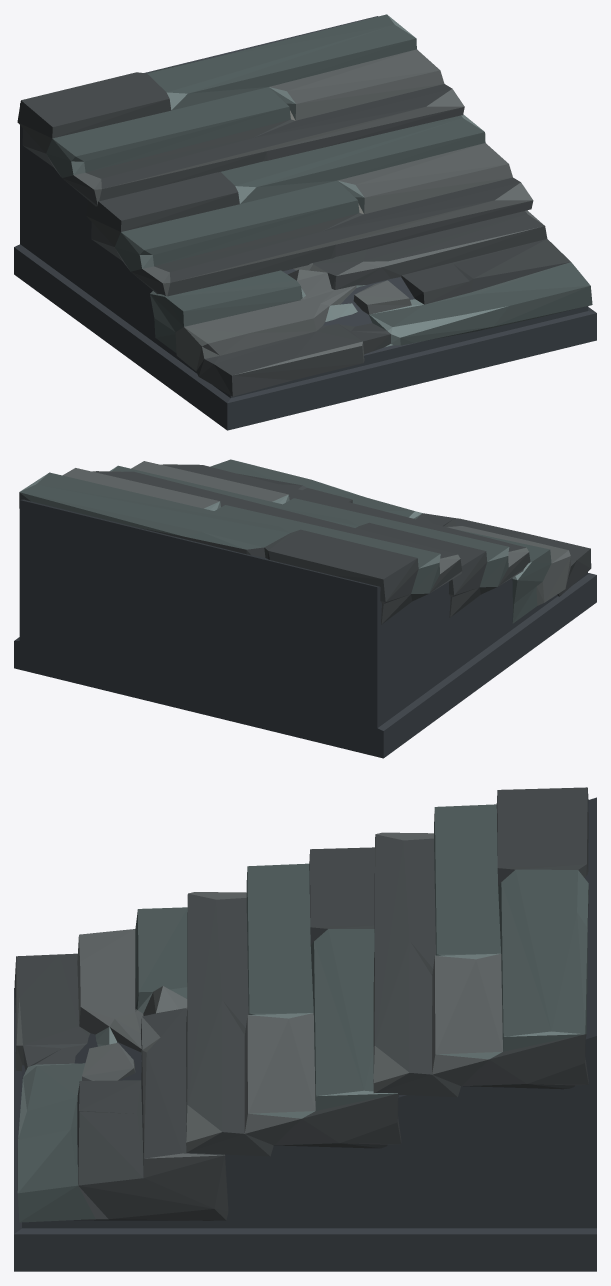
The model's file is MDungeons_StepsSimple_Broken_01.FBX.
The picture shows the model from 3 angles, top to bottom: view 1: azimuth 30°, elevation 25°; view 2: azimuth 150°, elevation 25°; view 3: azimuth 270°, elevation 25°; orthographic projection. The views are drawn at different scales.
Visible parts, largest first — view 1: MDungeons_StepsSimple_Broken_01_LOD0; view 2: MDungeons_StepsSimple_Broken_01_LOD0; view 3: MDungeons_StepsSimple_Broken_01_LOD0.
Part boxes in pixels (x1=…): MDungeons_StepsSimple_Broken_01_LOD0: x1=14, y1=14, x2=596, y2=430; MDungeons_StepsSimple_Broken_01_LOD0: x1=14, y1=459, x2=596, y2=758; MDungeons_StepsSimple_Broken_01_LOD0: x1=14, y1=787, x2=596, y2=1271.
Size of what is drawn, in the model's own units: 5.98 by 2.71 by 5.97.
